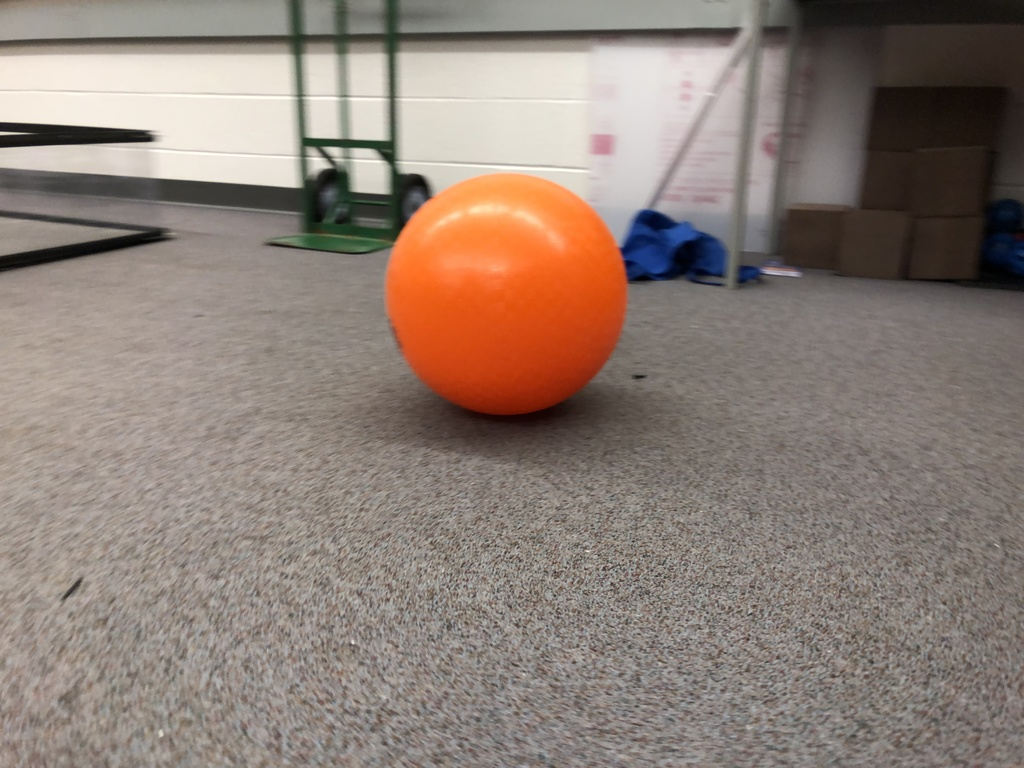cargo: (376, 161, 635, 424)
